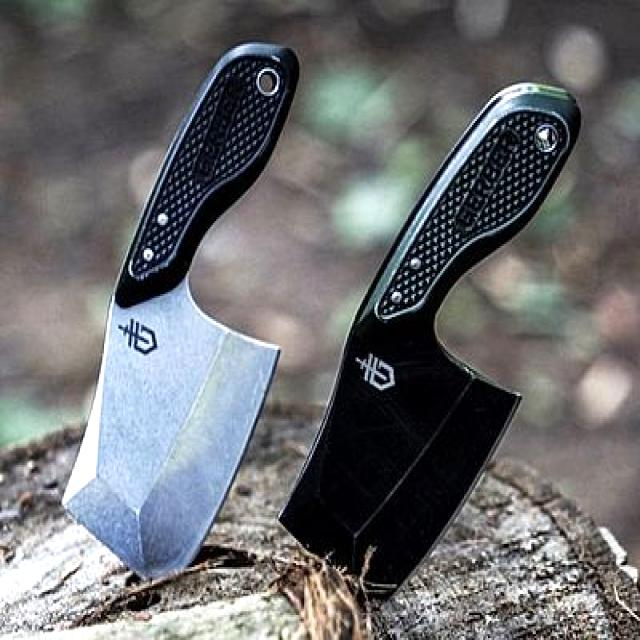cleaver: (287, 67, 579, 606)
